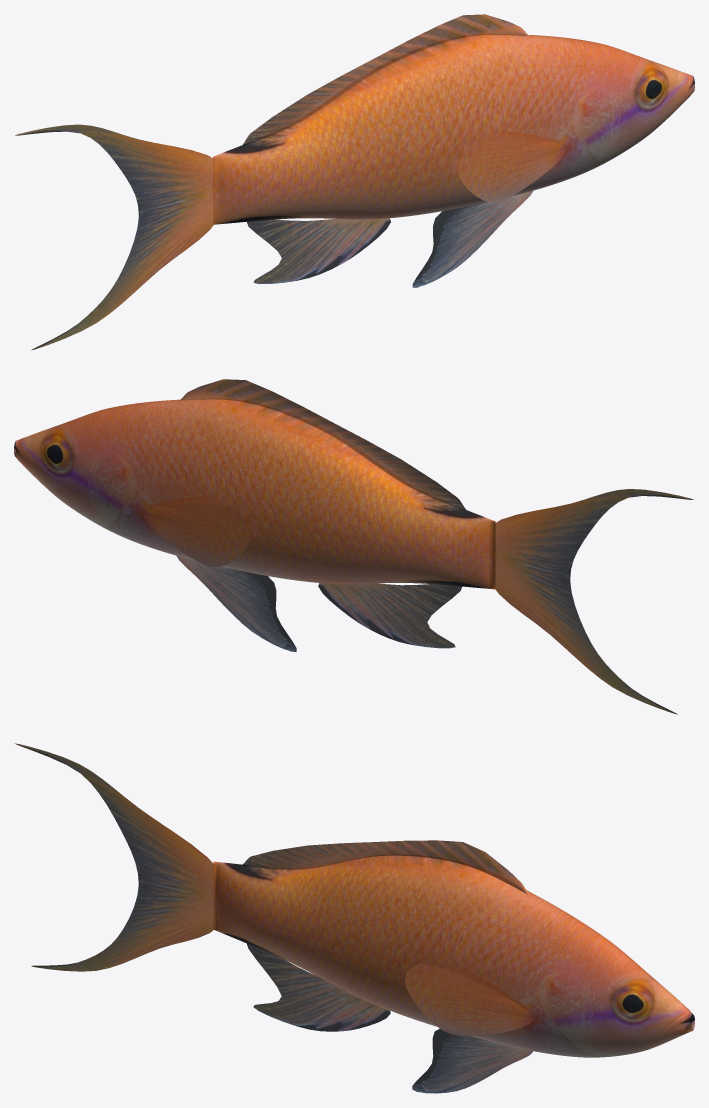
The model's file is anthias.glb.
3 renders of one model, top to bottom at view 1: azimuth 30°, elevation 25°; view 2: azimuth 150°, elevation 25°; view 3: azimuth 330°, elevation 25°, orthographic.
Visible parts, largest first — view 1: anthias__body, anthias__fin_0, anthias__fin_2, anthias__fin_1, anthias__pectoral_1, anthias__fin_3, anthias__gill_1, anthias__eye_1; view 2: anthias__body, anthias__fin_0, anthias__fin_2, anthias__fin_1, anthias__pectoral_-1, anthias__fin_3, anthias__gill_-1, anthias__eye_-1; view 3: anthias__body, anthias__fin_0, anthias__pectoral_1, anthias__fin_2, anthias__fin_1, anthias__fin_3, anthias__gill_1, anthias__eye_1.
Part boxes in pixels (left/top/right/bottom): anthias__body: left=213, top=34, right=694, bottom=224; anthias__fin_0: left=15, top=124, right=214, bottom=350; anthias__fin_2: left=247, top=218, right=390, bottom=284; anthias__fin_1: left=241, top=14, right=528, bottom=146; anthias__pectoral_1: left=457, top=138, right=565, bottom=202; anthias__fin_3: left=412, top=190, right=533, bottom=287; anthias__gill_1: left=563, top=80, right=614, bottom=176; anthias__eye_1: left=640, top=70, right=665, bottom=105; anthias__body: left=14, top=399, right=495, bottom=589; anthias__fin_0: left=495, top=489, right=693, bottom=714; anthias__fin_2: left=318, top=583, right=461, bottom=648; anthias__fin_1: left=180, top=379, right=466, bottom=510; anthias__pectoral_-1: left=143, top=503, right=250, bottom=566; anthias__fin_3: left=176, top=555, right=296, bottom=651; anthias__gill_-1: left=94, top=445, right=145, bottom=541; anthias__eye_-1: left=43, top=435, right=68, bottom=470; anthias__body: left=213, top=855, right=694, bottom=1057; anthias__fin_0: left=14, top=743, right=214, bottom=971; anthias__pectoral_1: left=405, top=964, right=532, bottom=1036; anthias__fin_2: left=247, top=943, right=390, bottom=1031; anthias__fin_1: left=241, top=840, right=529, bottom=895; anthias__fin_3: left=412, top=1028, right=533, bottom=1093; anthias__gill_1: left=538, top=961, right=585, bottom=1054; anthias__eye_1: left=616, top=985, right=649, bottom=1019.
Bounding box in the file's own units: 1.42 × 0.5195 × 0.1916.
4 materials, 4 textured.
